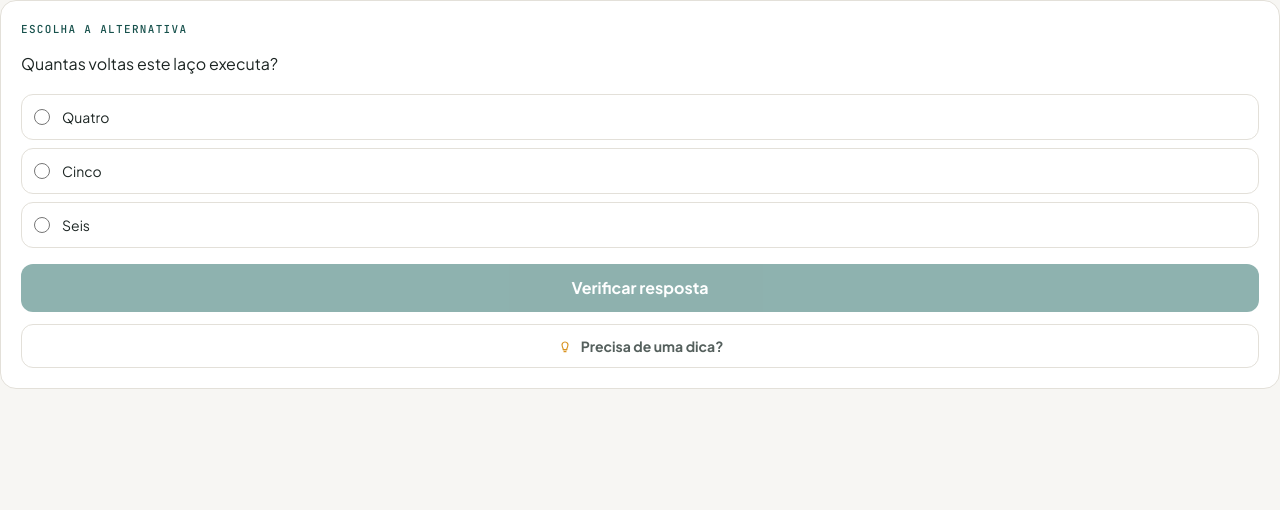
resposta errada › explica em vez de apenas dizer que errou
Click the radio button labelled "Seis": (42, 224) 34,216 -> 50,232
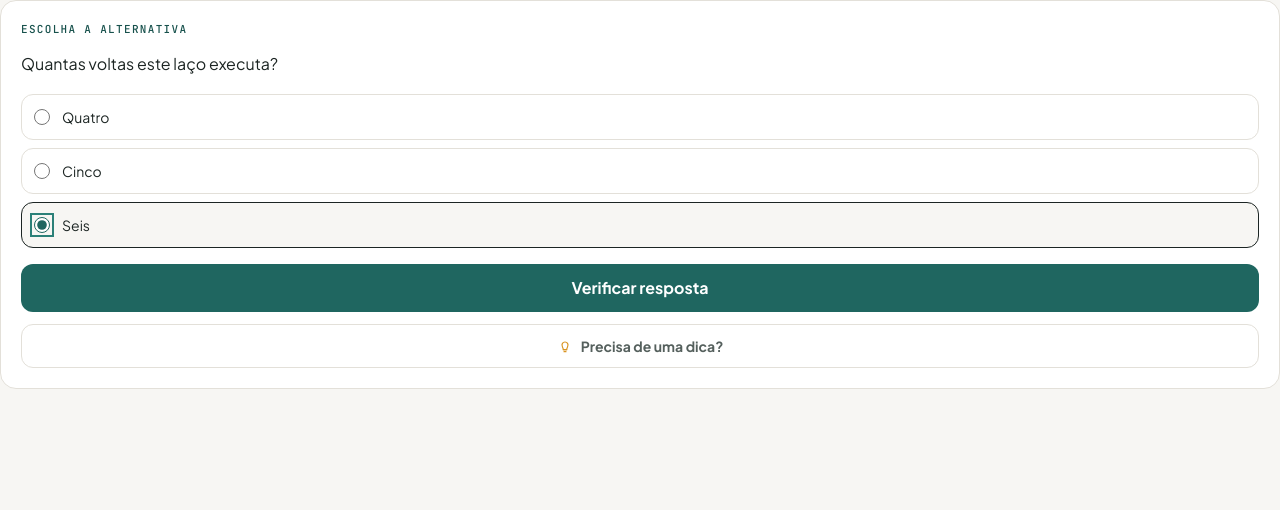
Click the button "Verificar resposta": (640, 288) 21,264 -> 1259,312
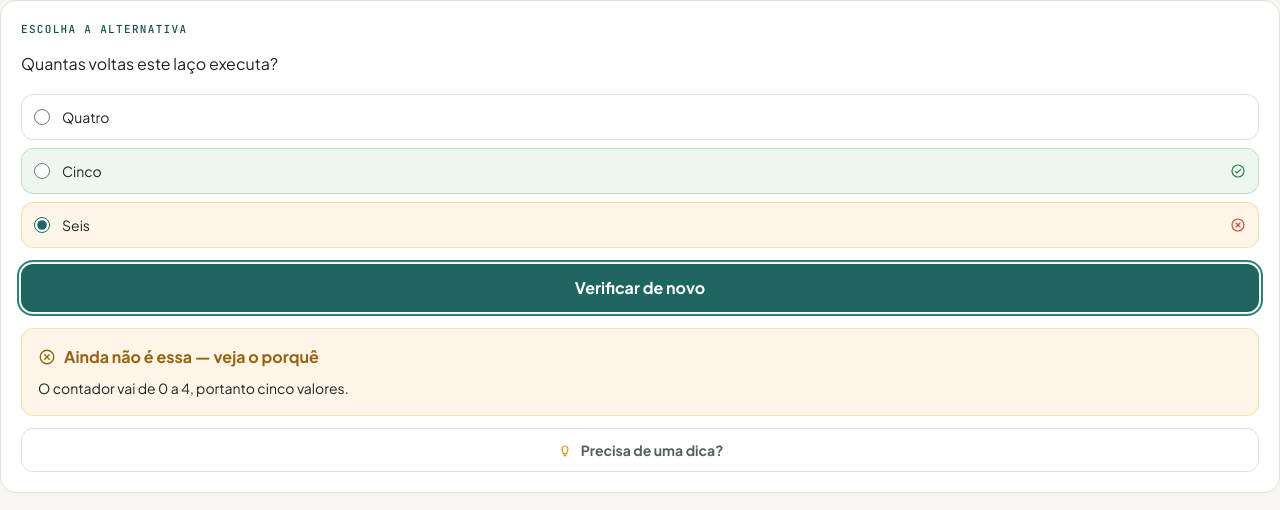
Expected: the text "Ainda não é essa — veja o porquê" is shown, 38,346 -> 319,366
Expected: the text "O contador vai de 0 a 4, portanto cinco valores." is shown, 38,378 -> 349,396
